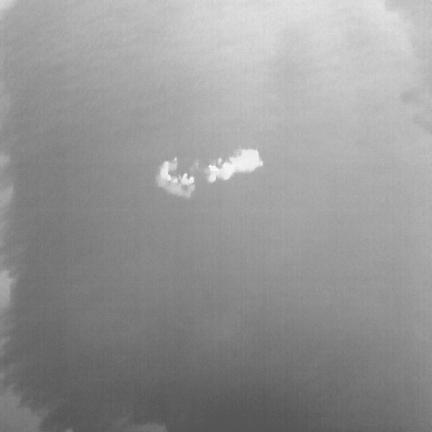flukeprints: (206, 149, 263, 181), (160, 159, 176, 181), (179, 173, 194, 186)
